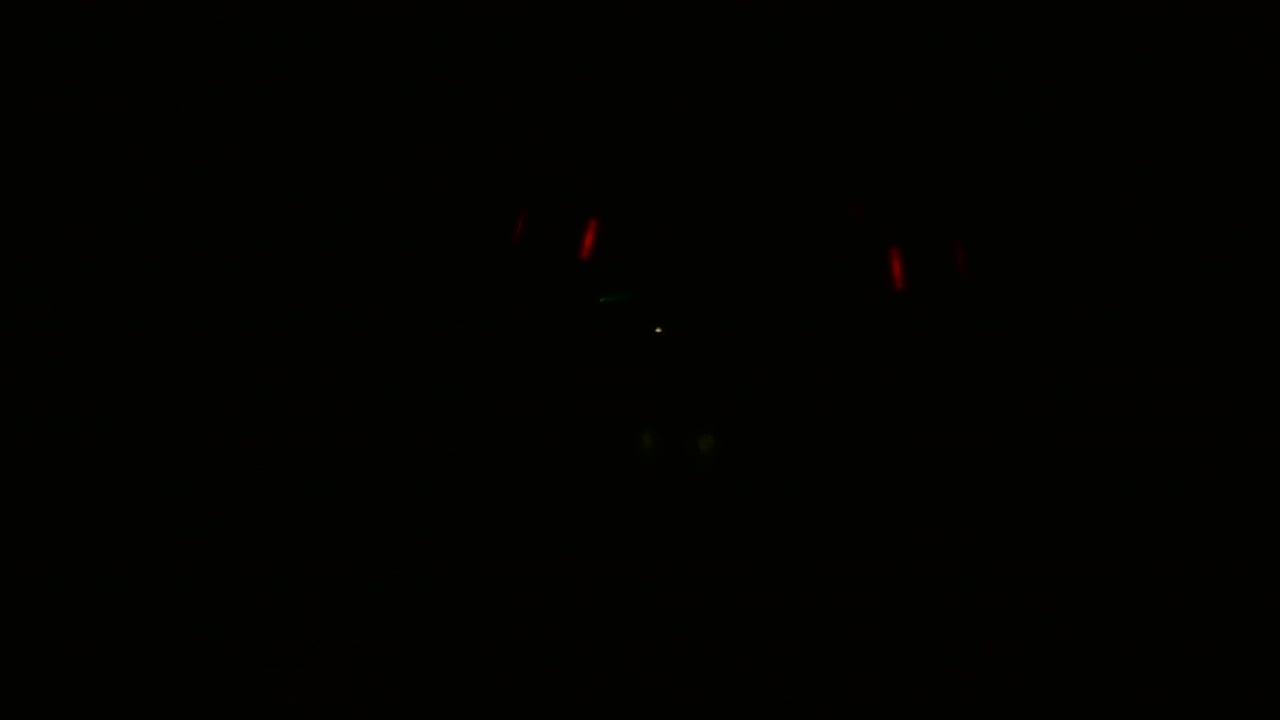pair1: (507, 210, 601, 262)
